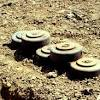car: (47, 39, 86, 63)
